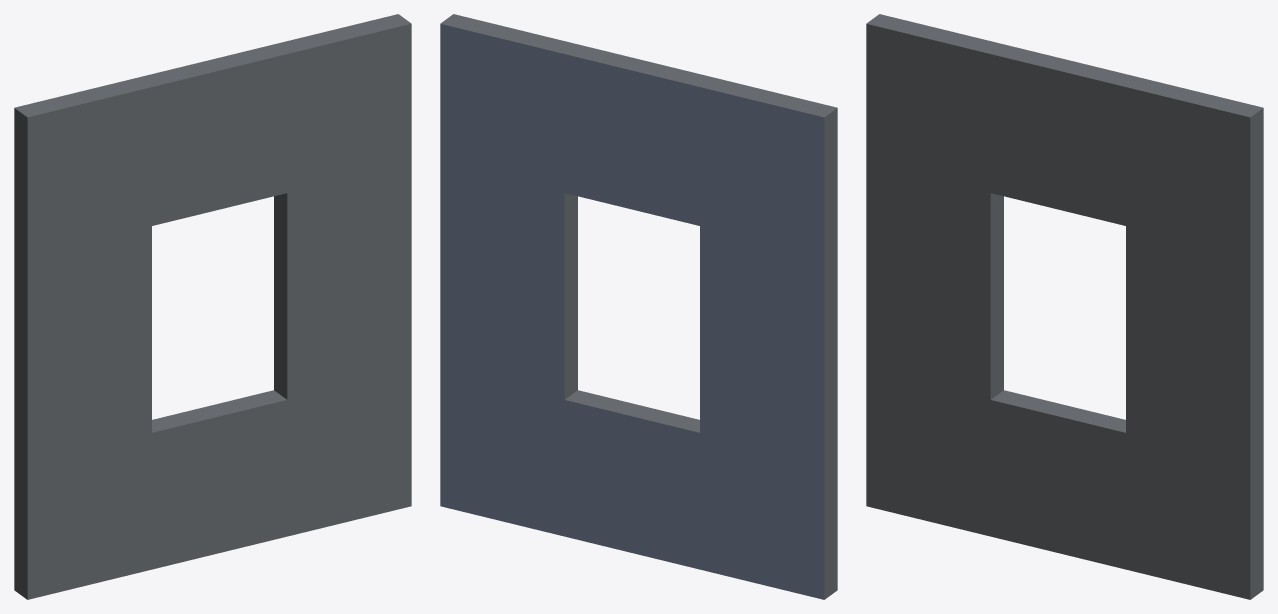
The model's file is Wall3_C4_03.fbx.
The picture shows the model from 3 angles, left to right: view 1: azimuth 30°, elevation 25°; view 2: azimuth 150°, elevation 25°; view 3: azimuth 330°, elevation 25°; orthographic projection.
Visible parts, largest first — view 1: Wall3_C4_03; view 2: Wall3_C4_03; view 3: Wall3_C4_03.
Part boxes in pixels (left/top/right/bottom): Wall3_C4_03: left=14, top=14, right=411, bottom=599; Wall3_C4_03: left=440, top=14, right=837, bottom=599; Wall3_C4_03: left=866, top=14, right=1263, bottom=599.
Size of the model in its own units: 250 by 300 by 15.
